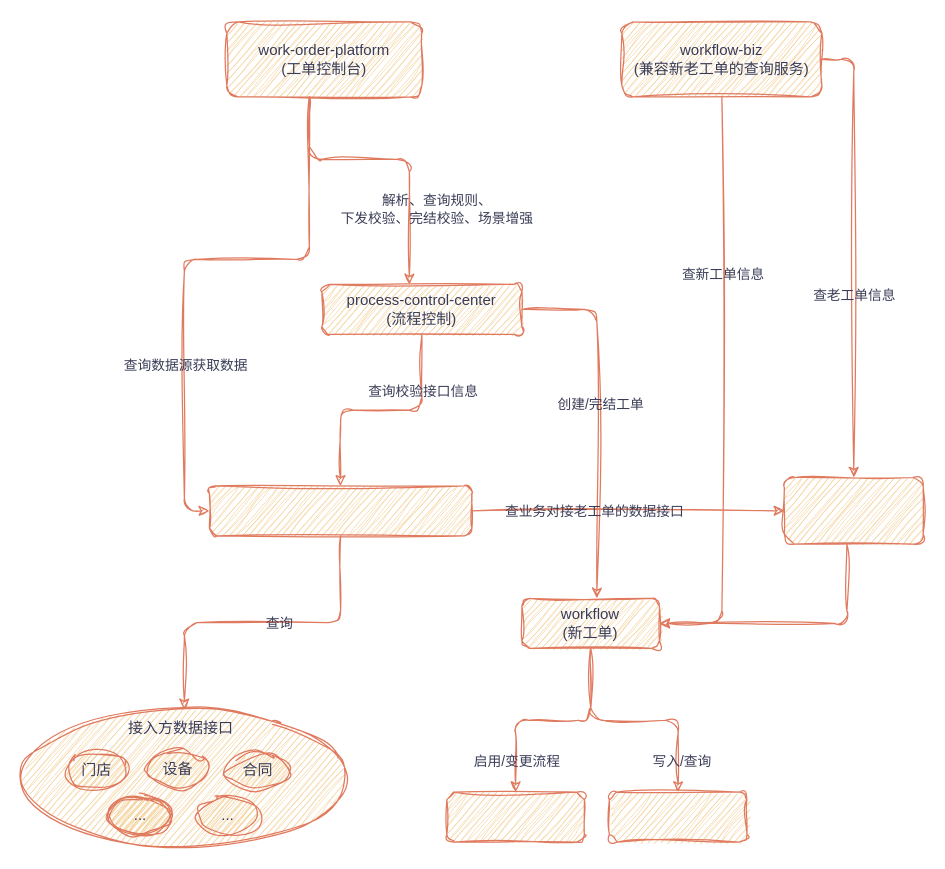
Some shapes in this 945 by 869 pixel diagram are drawn without their labels. The shapes that lost their labels are listed below. From the top down, each one's box as (x1, y1, x2, y2) in pixels, then its label:
(208, 485, 472, 536): data-resources-server (数据源管理)
(783, 476, 923, 544): woms (老工单、以及业务放对接老工单代码)
(446, 791, 584, 842): flowengine
(608, 791, 747, 842): es
